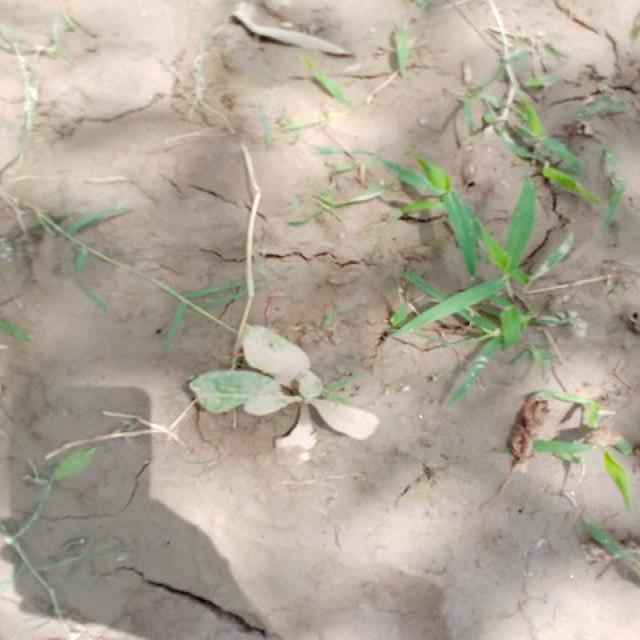crop: (190, 327, 380, 461)
